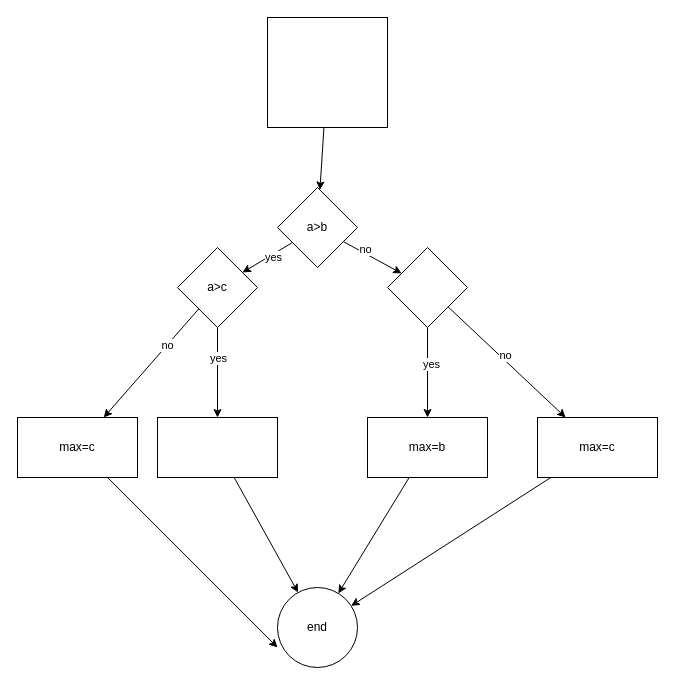
The diagram is 675 pixels wide and 685 high, and some of its shapes have lost their labels. The shapes that lost their labels are listed below. From the top down, each one's centre as x and y in pixels, then its label:
the point at 327,72: a b c max
the point at 427,287: b>c
the point at 217,447: max=a
